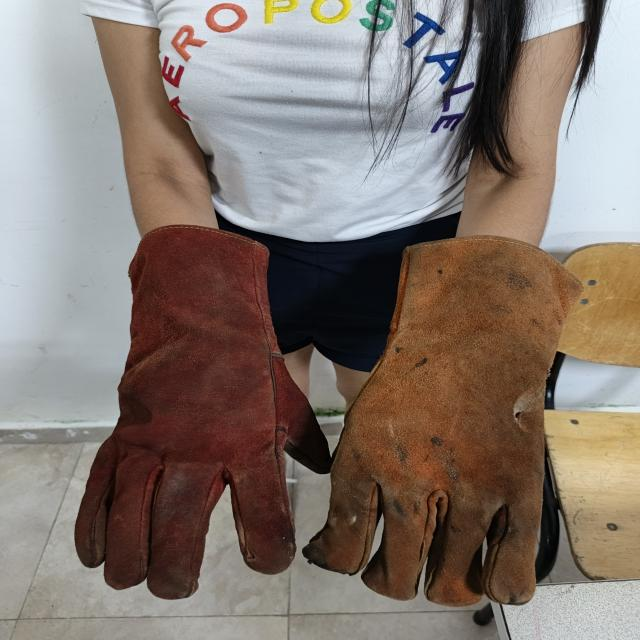gloves: (302, 236, 582, 606), (75, 226, 329, 599)
